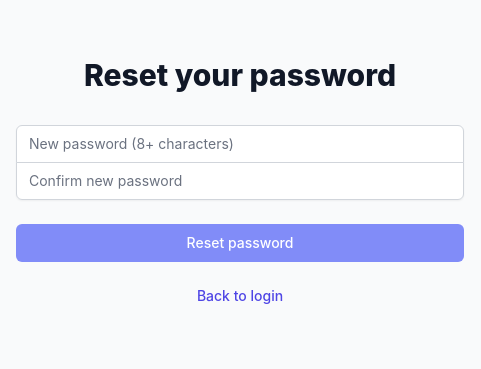
Test: ResetPasswordForm › shows deterministic message for invalid or expired token
Type "newpassword123" into the password field labelled "New password (8+ characters)" at (240, 144), box [16,124,464,162]
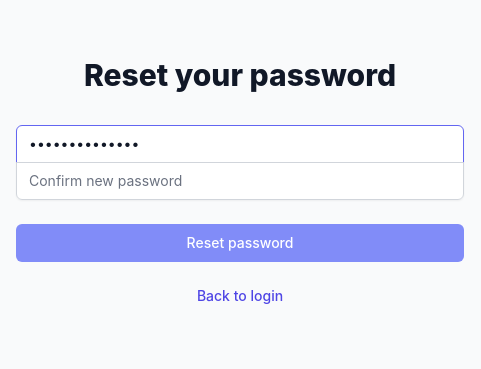
Type "newpassword123" into the password field named "confirm password" at (240, 180), box [16,162,464,200]
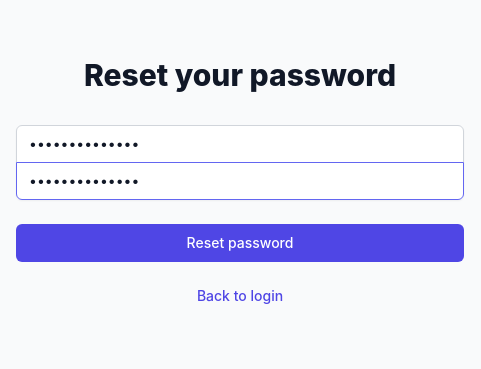
Click the button "Reset password" at (240, 242), box [16,224,464,262]
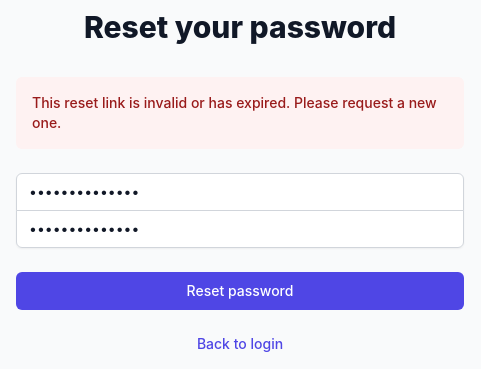
Now the text "invalid or has expired" is shown, box [32,94,437,130]
